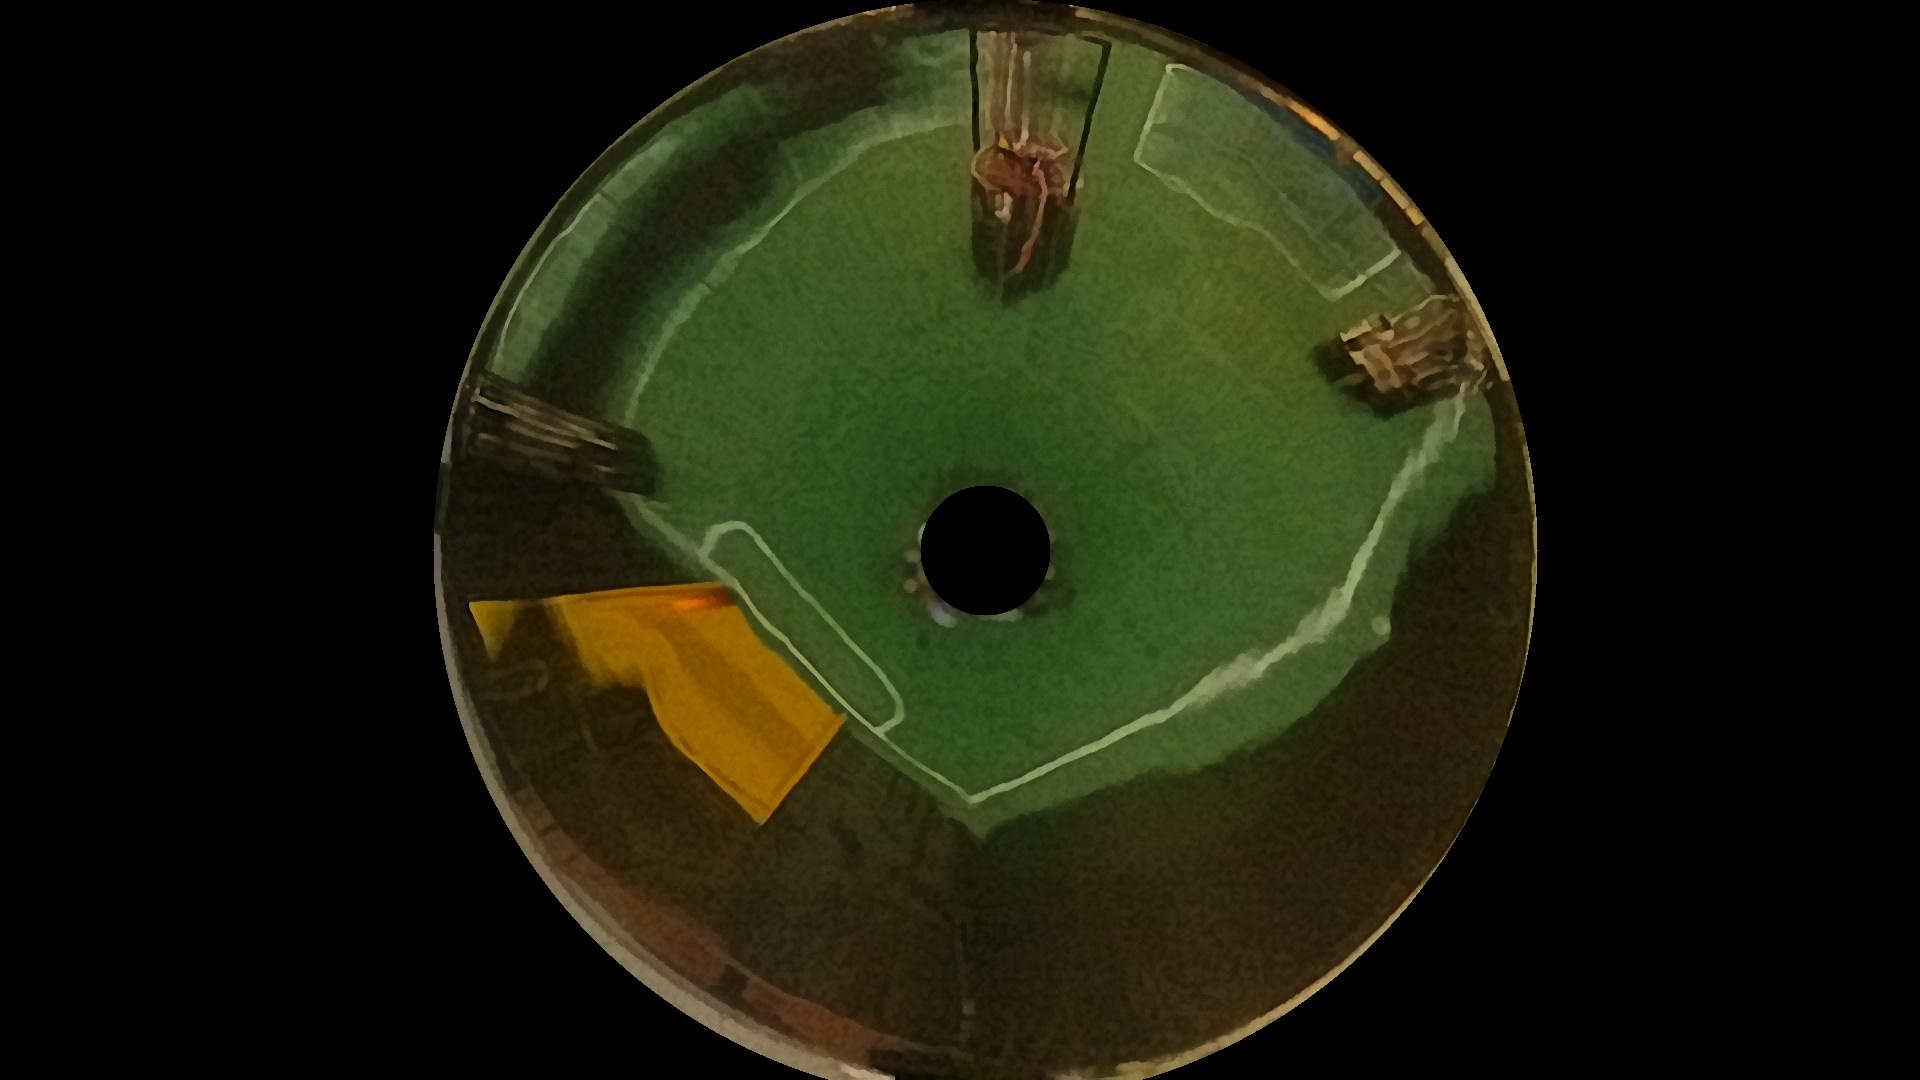robots: (952, 20, 1108, 301), (459, 365, 687, 497), (1315, 295, 1505, 423)
yellow-goal: (484, 587, 886, 833)
